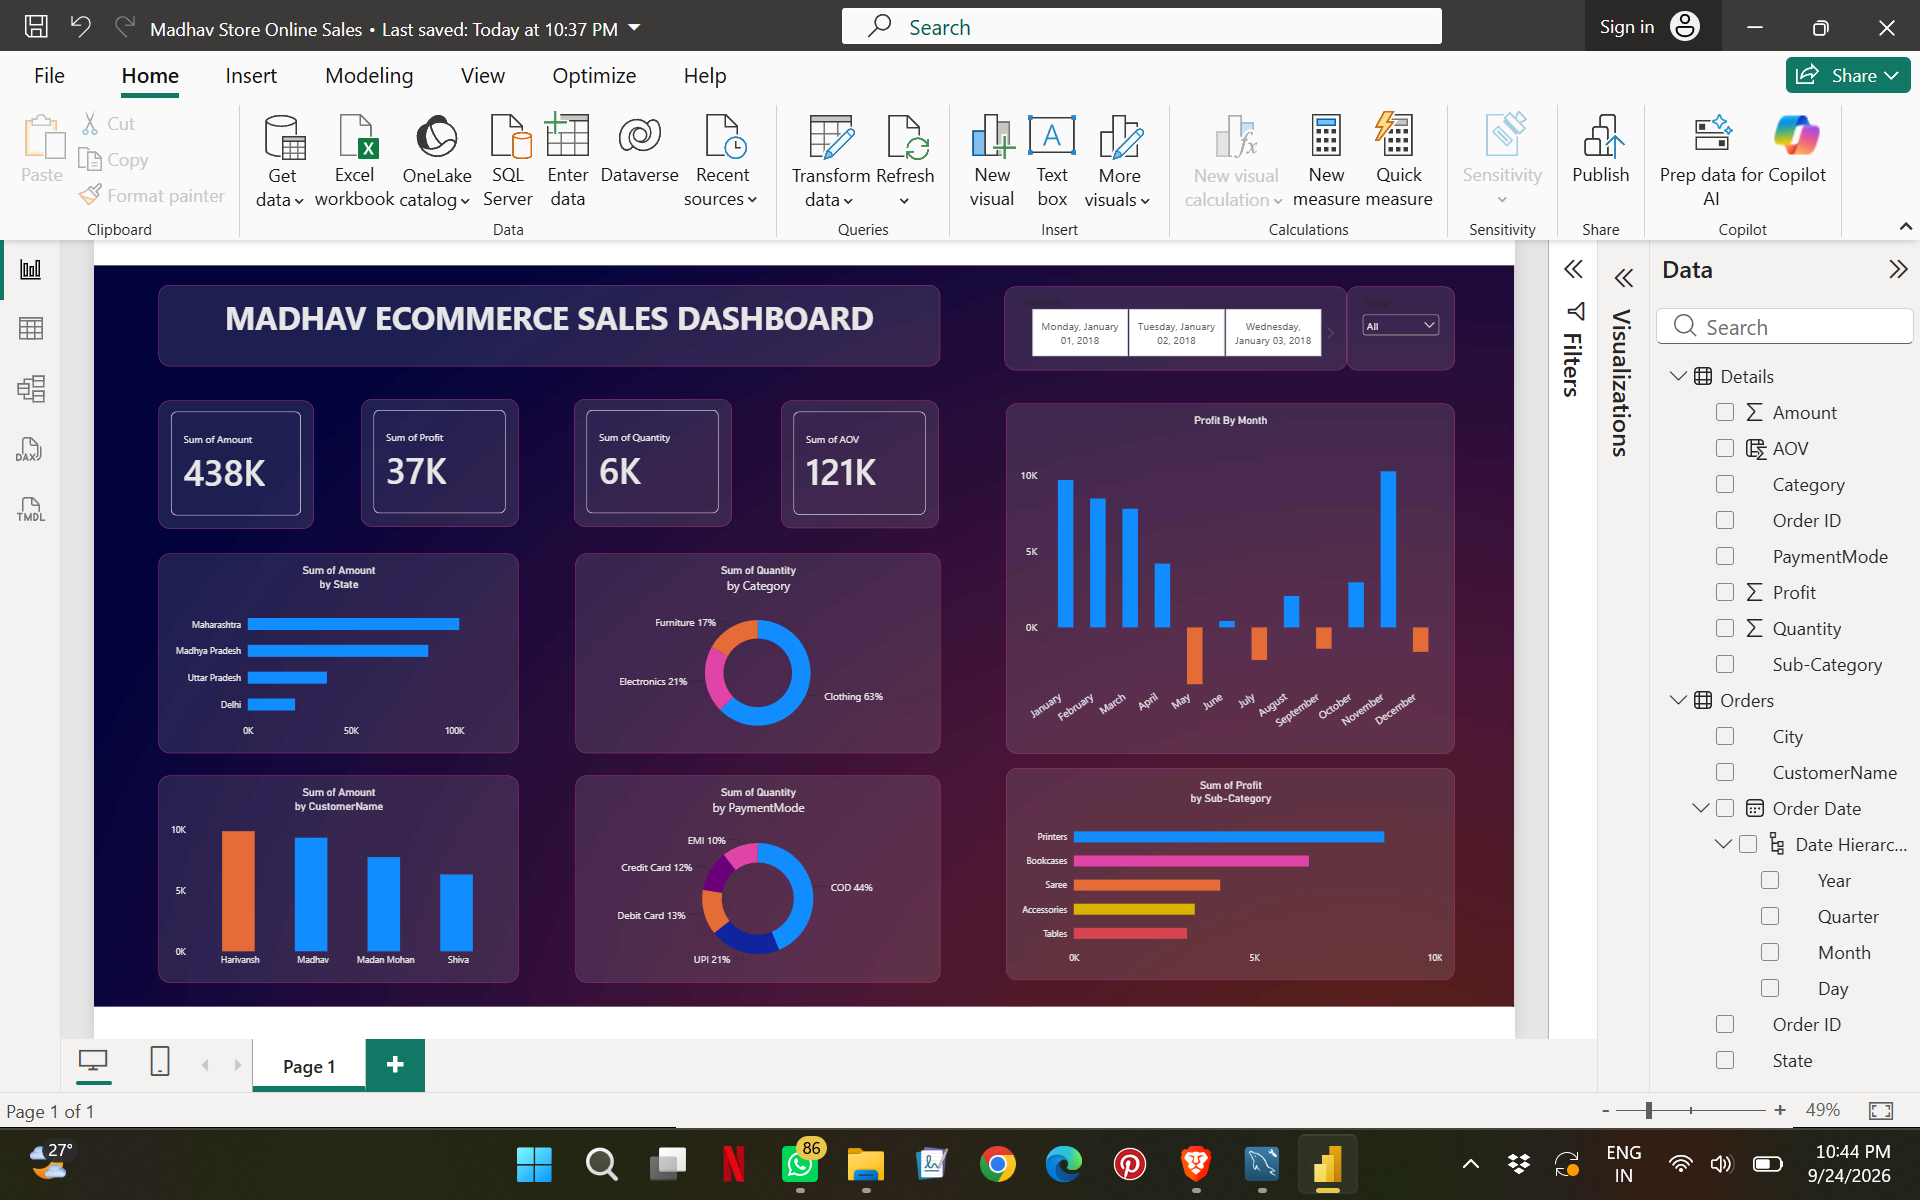

The dashboard page shown, as its layout file describes it:
{"tool":"powerbi","page":{"name":"Page 1","canvas":[1920,1080],"ordinal":0},"visuals":[{"type":"textbox","box":[86.7,60,1056.7,110],"z":0},{"type":"columnChart","title":"Profit By Month","fields":{"Category":["Orders.Order Date.Variation.Date Hierarchy.Month"],"Y":["Sum(Details.Profit)"]},"box":[1233.3,220,606.7,473.3],"z":1000},{"type":"barChart","fields":{"Category":["Details.Sub-Category"],"Y":["Sum(Details.Profit)"]},"box":[1233.3,713.3,606.7,286.7],"z":2000},{"type":"donutChart","fields":{"Category":["Details.Category"],"Y":["Sum(Details.Quantity)"]},"box":[650,423.3,493.3,270],"z":3000},{"type":"donutChart","fields":{"Category":["Details.PaymentMode"],"Y":["Sum(Details.Quantity)"]},"box":[650,724,493.3,280],"z":4000},{"type":"cardVisual","fields":{"Data":["Sum(Details.Amount)"]},"box":[86.7,216.7,210,173.3],"z":5000},{"type":"cardVisual","fields":{"Data":["Sum(Details.Quantity)"]},"box":[649.1,215.4,213.5,172.6],"z":6000},{"type":"cardVisual","fields":{"Data":["Sum(Details.Profit)"]},"box":[360,215.4,213.5,172.6],"z":7000},{"type":"cardVisual","fields":{"Data":["Sum(Details.AOV)"]},"box":[928,216,213.5,172.6],"z":8000},{"type":"barChart","fields":{"Category":["Orders.State"],"Y":["Sum(Details.Amount)"]},"box":[86.7,423.3,486.7,270],"z":9000},{"type":"columnChart","fields":{"Category":["Orders.CustomerName"],"Y":["Sum(Details.Amount)"]},"box":[86.7,723.3,486.7,280],"z":10000},{"type":"slicer","fields":{"Values":["Orders.Order Date"]},"box":[1230,63.3,463.3,113.3],"z":11000},{"type":"slicer","fields":{"Values":["Orders.State"]},"box":[1693.3,63.3,146.7,113.3],"z":11001}]}

Visuals, with their boxes on the page's 1920x1080 design canvas (x1, y1, x2, y2). These are canvas units, not pixel positions in the 1920x1200 screenshot, which may show the page scaled, cropped or inside an application window:
textbox: l=87, t=60, r=1143, b=170
"Profit By Month" columnChart: l=1233, t=220, r=1840, b=693
barChart - Details.Sub-Category x Sum(Details.Profit): l=1233, t=713, r=1840, b=1000
donutChart - Details.Category x Sum(Details.Quantity): l=650, t=423, r=1143, b=693
donutChart - Details.PaymentMode x Sum(Details.Quantity): l=650, t=724, r=1143, b=1004
cardVisual - Sum(Details.Amount): l=87, t=217, r=297, b=390
cardVisual - Sum(Details.Quantity): l=649, t=215, r=863, b=388
cardVisual - Sum(Details.Profit): l=360, t=215, r=574, b=388
cardVisual - Sum(Details.AOV): l=928, t=216, r=1142, b=389
barChart - Orders.State x Sum(Details.Amount): l=87, t=423, r=573, b=693
columnChart - Orders.CustomerName x Sum(Details.Amount): l=87, t=723, r=573, b=1003
slicer - Orders.Order Date: l=1230, t=63, r=1693, b=177
slicer - Orders.State: l=1693, t=63, r=1840, b=177
